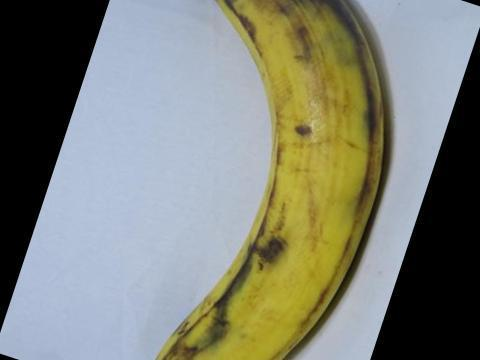ripe: (146, 0, 391, 359)
